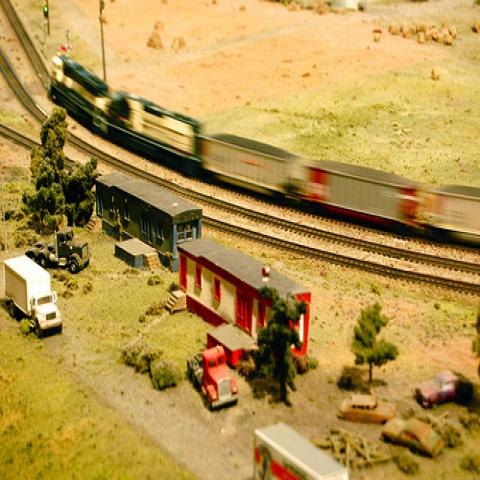car: (411, 367, 477, 412), (383, 416, 444, 459), (340, 396, 392, 425)
truck: (4, 256, 63, 338), (186, 343, 238, 412)
